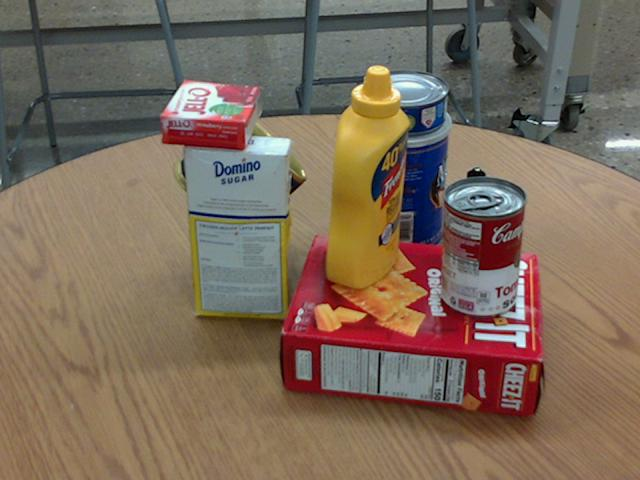cracker_box: (282, 233, 540, 415)
gelatin_box: (160, 80, 262, 148)
large_marker: (458, 168, 484, 278)
master_chef_can: (349, 97, 453, 260)
mug: (195, 174, 288, 282)
mustard_bottle: (325, 64, 409, 288)
potted_meat_can: (174, 108, 307, 237)
sugar_box: (182, 132, 292, 320)
tomato_soup_can: (441, 175, 527, 316)
tuna_fish_can: (363, 70, 449, 134)
